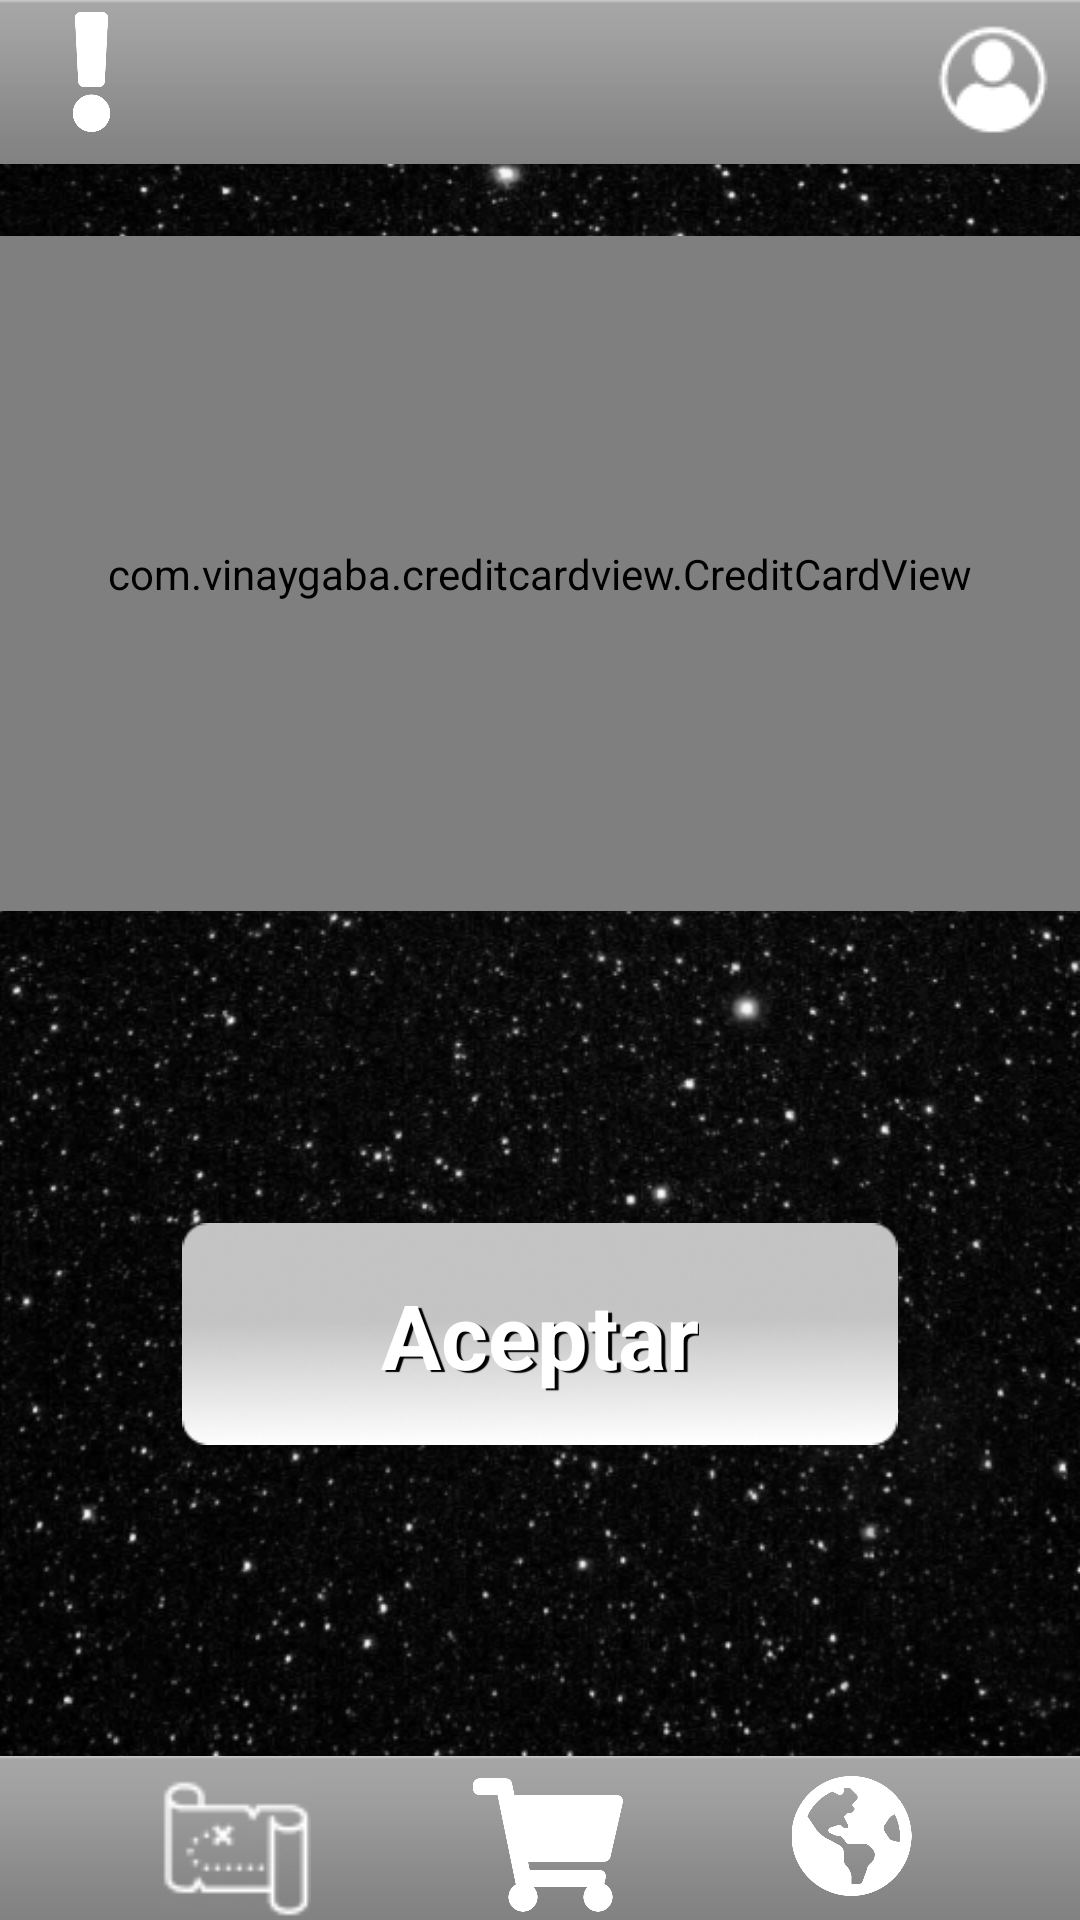

Icons on this 1080×1920 Android screen, each with the point to tap as (x=x, y=y):
earthicon: (x=851, y=1836)
excla: (x=91, y=72)
mapawhite: (x=236, y=1850)
profile: (x=993, y=79)
shoping: (x=548, y=1849)
